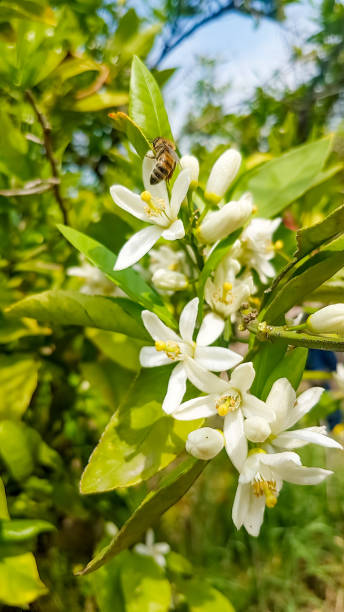flower: (167, 352, 282, 475), (223, 431, 333, 540), (98, 146, 196, 265), (130, 302, 238, 396), (262, 359, 341, 453), (119, 518, 184, 577)
